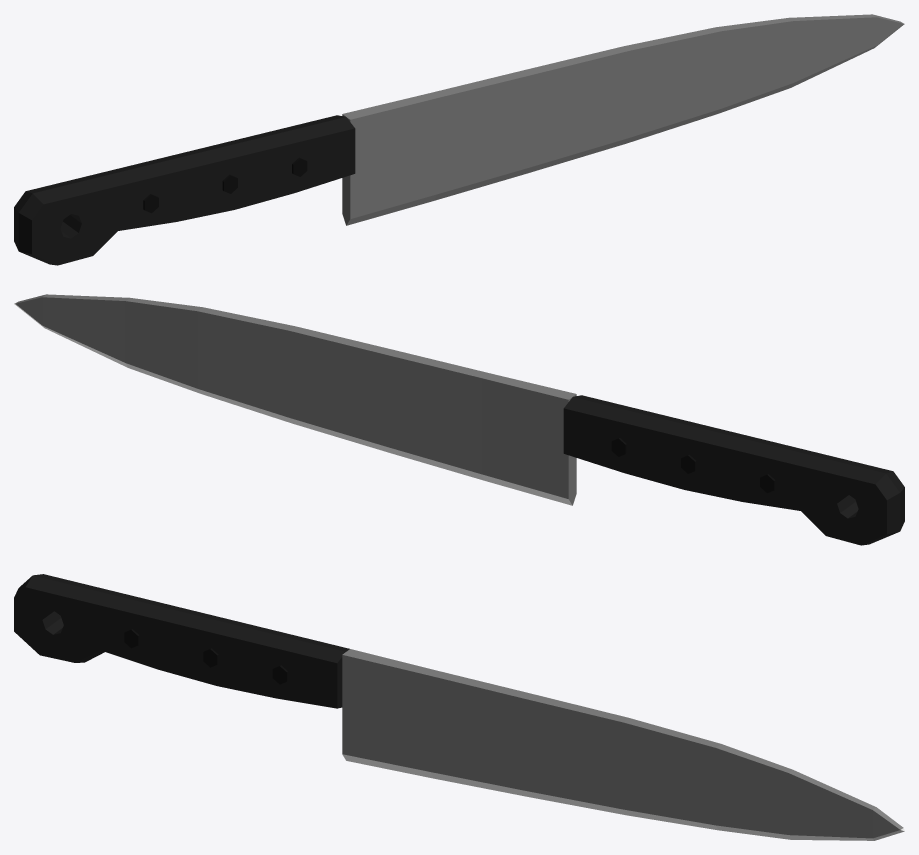
Rendered from kitchen_knife.glb.
The picture shows the model from 3 angles, top to bottom: view 1: azimuth 30°, elevation 25°; view 2: azimuth 150°, elevation 25°; view 3: azimuth 330°, elevation 25°; orthographic projection.
Parts seen in each view (by area): view 1: kitchen_knife; view 2: kitchen_knife; view 3: kitchen_knife.
Boxes of the visible parts, x1=… form: kitchen_knife: x1=14, y1=14, x2=904, y2=265; kitchen_knife: x1=14, y1=294, x2=904, y2=545; kitchen_knife: x1=14, y1=574, x2=904, y2=840.
Bounding box in the file's own units: 0.3623 × 0.0426 × 0.0146.
1 material, 1 textured.
